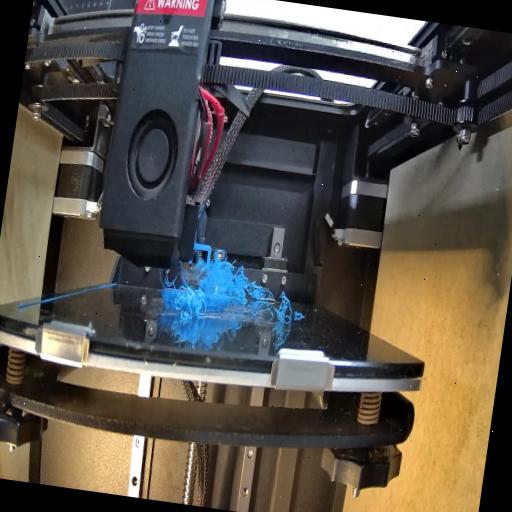spaghetti: (198, 256, 270, 306), (169, 279, 212, 331), (269, 290, 297, 328)
